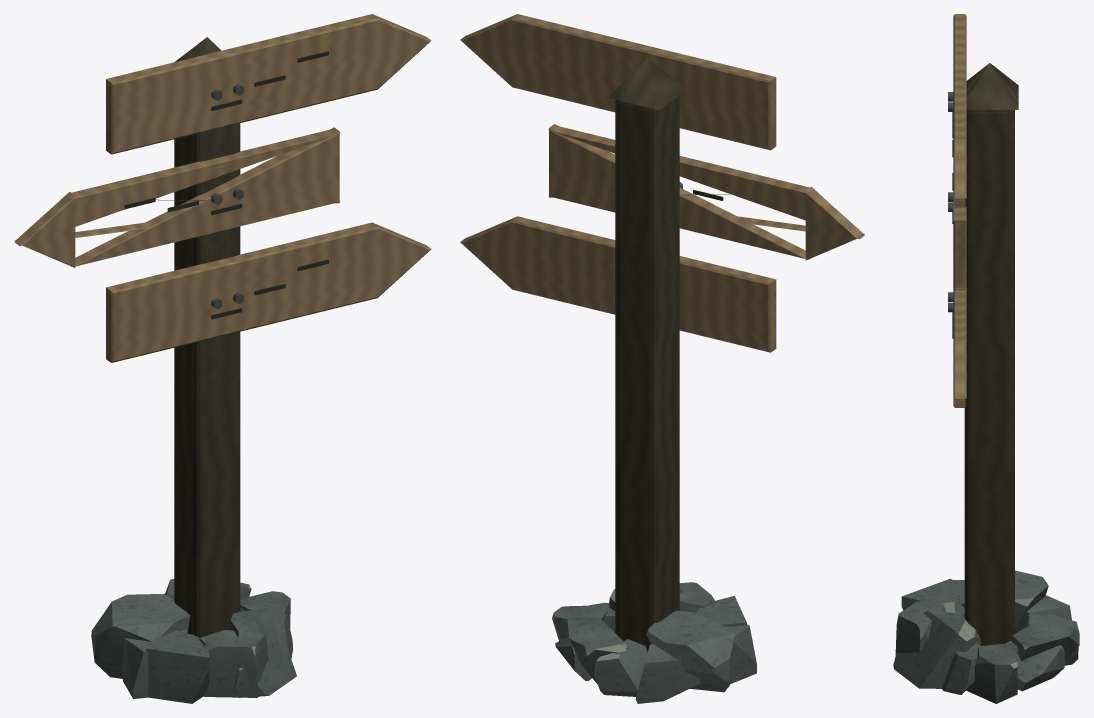
3 views of the same model, side by side, from view 1: azimuth 30°, elevation 25°; view 2: azimuth 150°, elevation 25°; view 3: azimuth 270°, elevation 25° (orthographic). The views are drawn at different scales.
Visible parts, largest first — view 1: cut grain, heartwood, weathered mineral, recess, forged iron; view 2: cut grain, heartwood, weathered mineral; view 3: heartwood, weathered mineral, cut grain, fresh chipped mineral, forged iron.
Part boxes in pixels (x1,y1,x2,y2): cut grain: (14,14,431,362); heartwood: (174,37,240,637); weathered mineral: (91,579,296,703); recess: (124,51,328,319); forged iron: (210,84,243,309); cut grain: (460,14,864,352); heartwood: (608,58,683,651); weathered mineral: (552,582,756,703); heartwood: (964,63,1018,645); weathered mineral: (893,570,1079,703); cut grain: (953,14,966,407); fresh chipped mineral: (897,598,1079,694); forged iron: (948,92,953,312).
Size of the model in its own units: 0.951 by 1.38 by 0.3877.
Materials: 6 (5 with a texture image).
